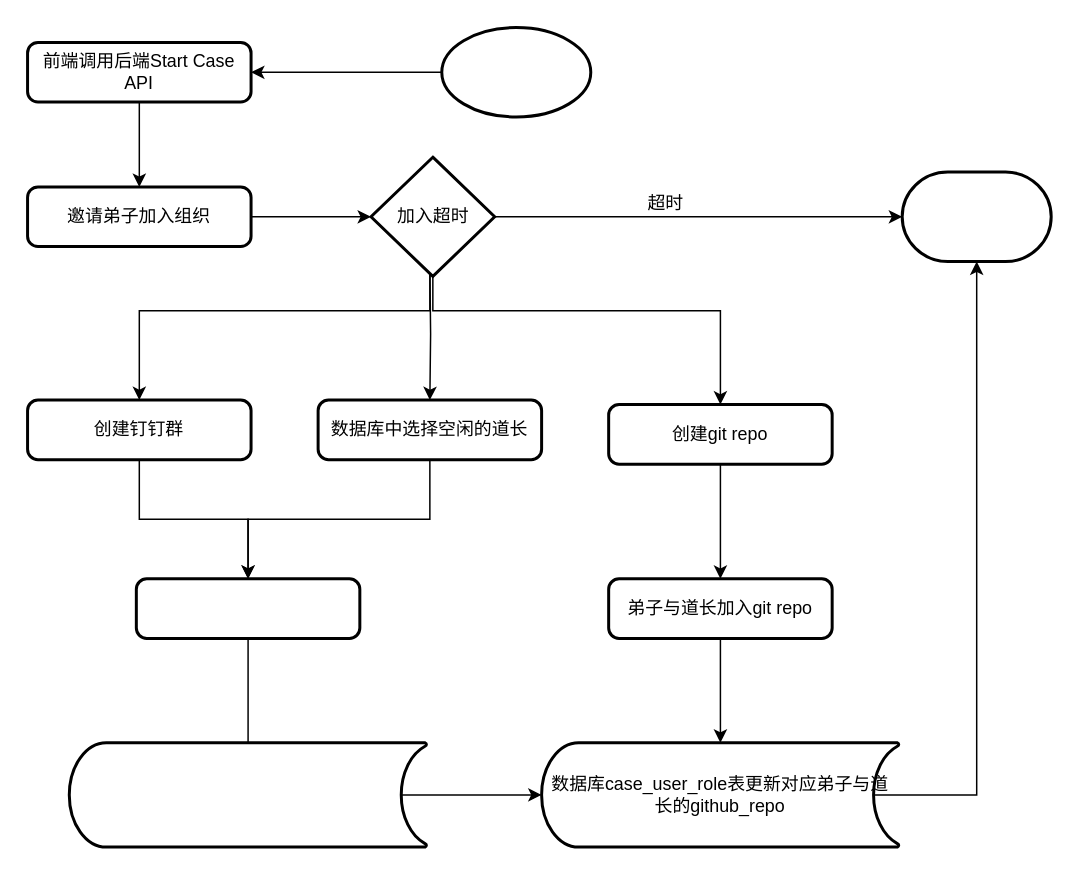
The diagram is 1077 pixels wide and 873 high, and some of its shapes have lost their labels. The centre of each missing label's shape, as x and y in pixels:
将弟子与道长加入钉钉群: [247,608]
数据库case_user_role插入弟子相关信息，并更新过道长status与dingtalk_chat: [247,794]
点击Start按钮: [516,71]
结束: [976,216]
